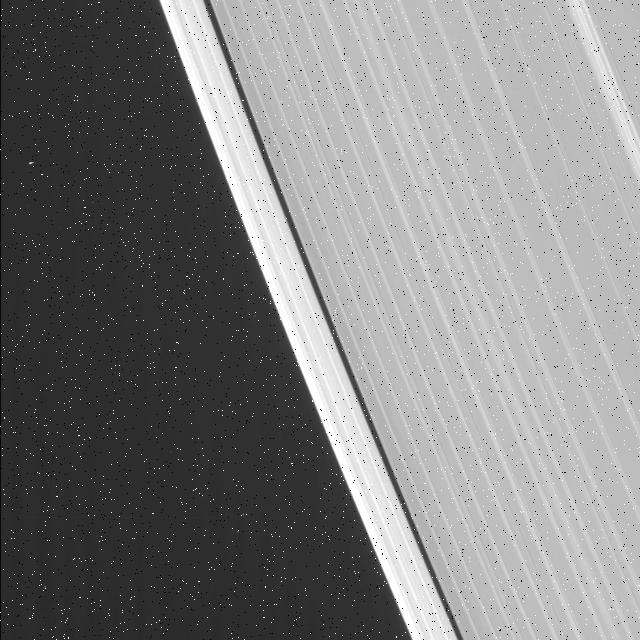Saturn: (143, 0, 640, 640)
